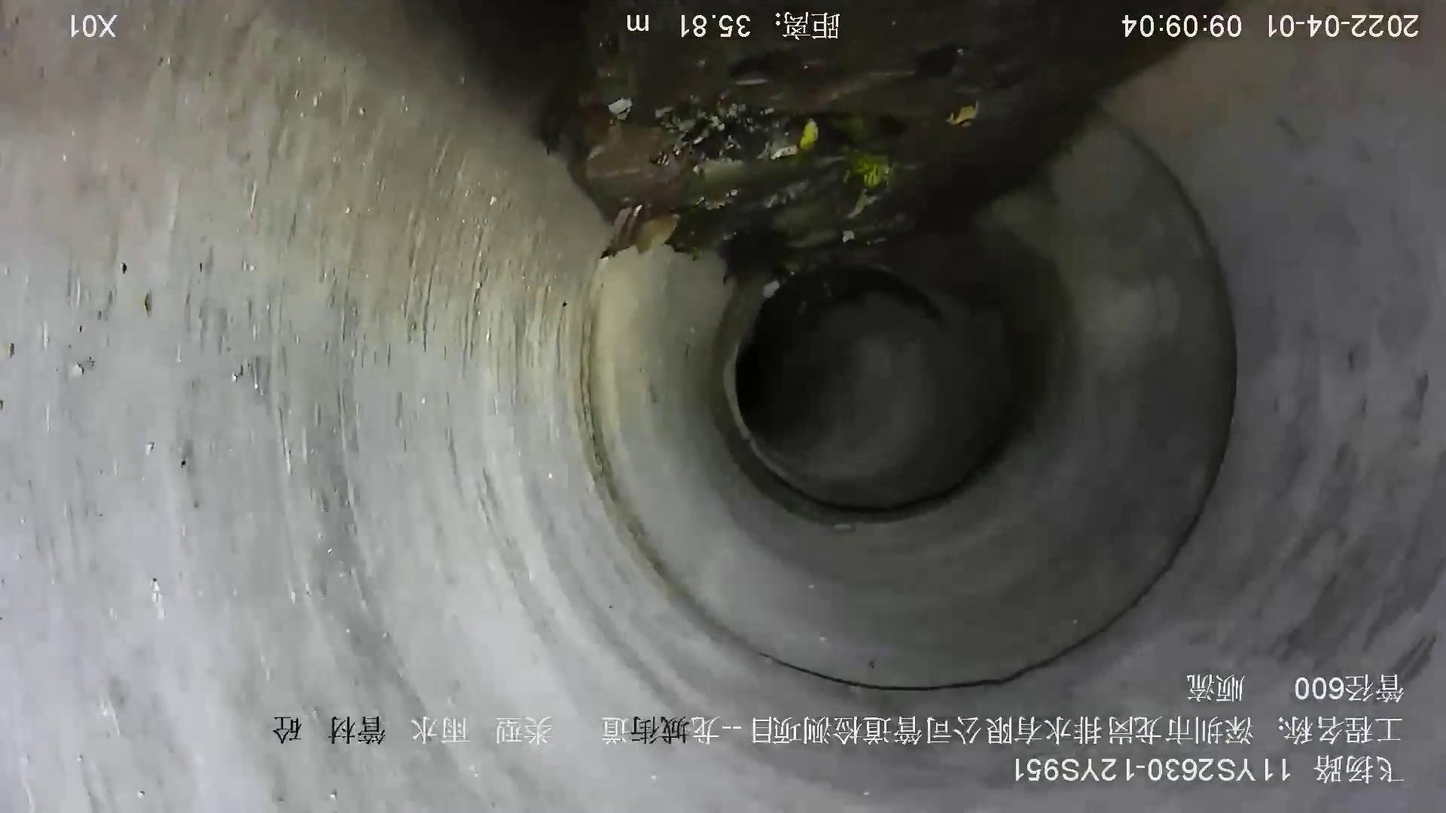CJ: (437, 1, 1241, 281)
CKTJ: (572, 92, 1252, 700)
